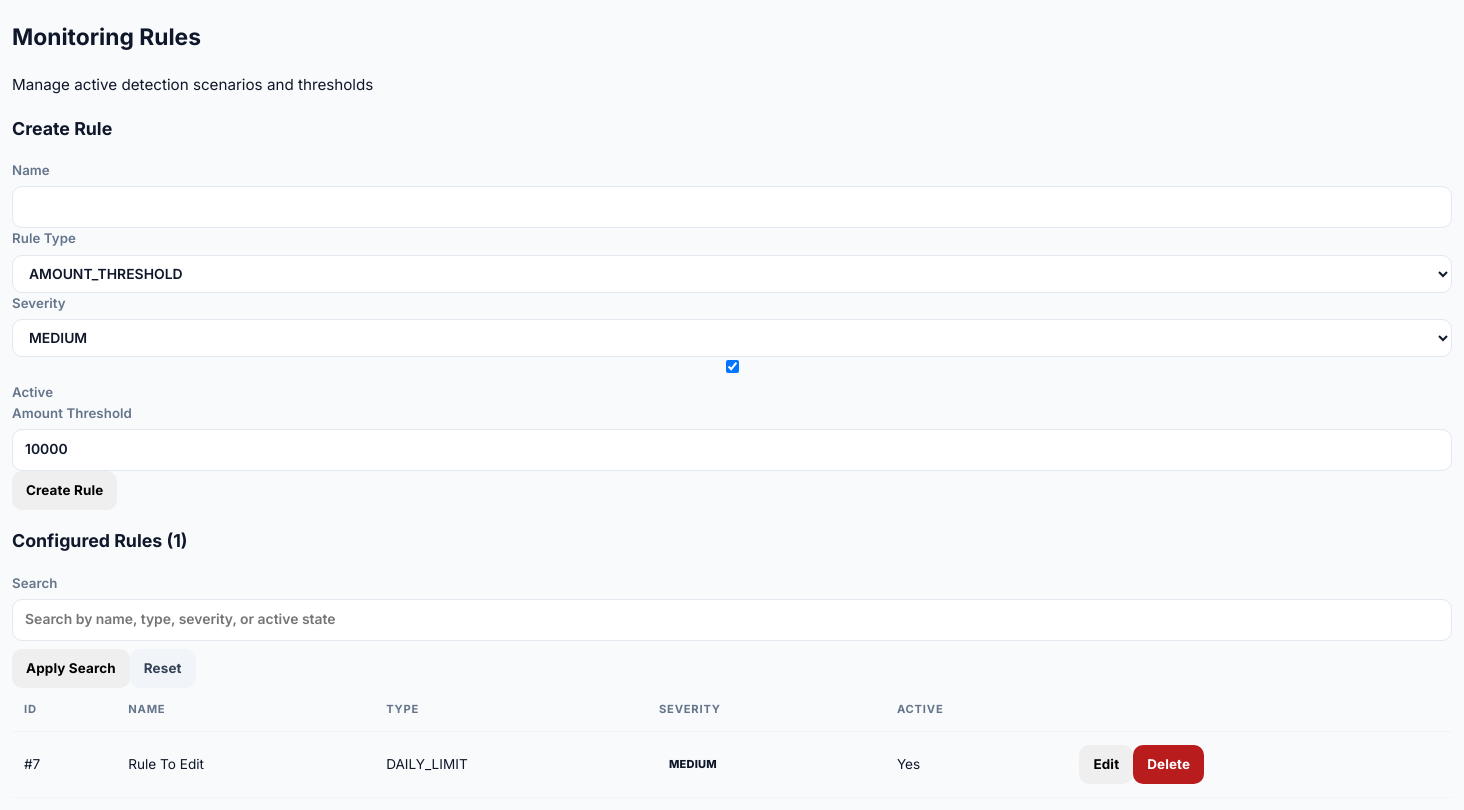
Test: RulesPage › enters edit mode and allows cancel back to create mode
The image size is (1464, 810).
expect the text "Rule To Edit" is shown: met, box [116, 732, 374, 797]
Click the button "Edit" at (1106, 764), box [1080, 745, 1133, 784]
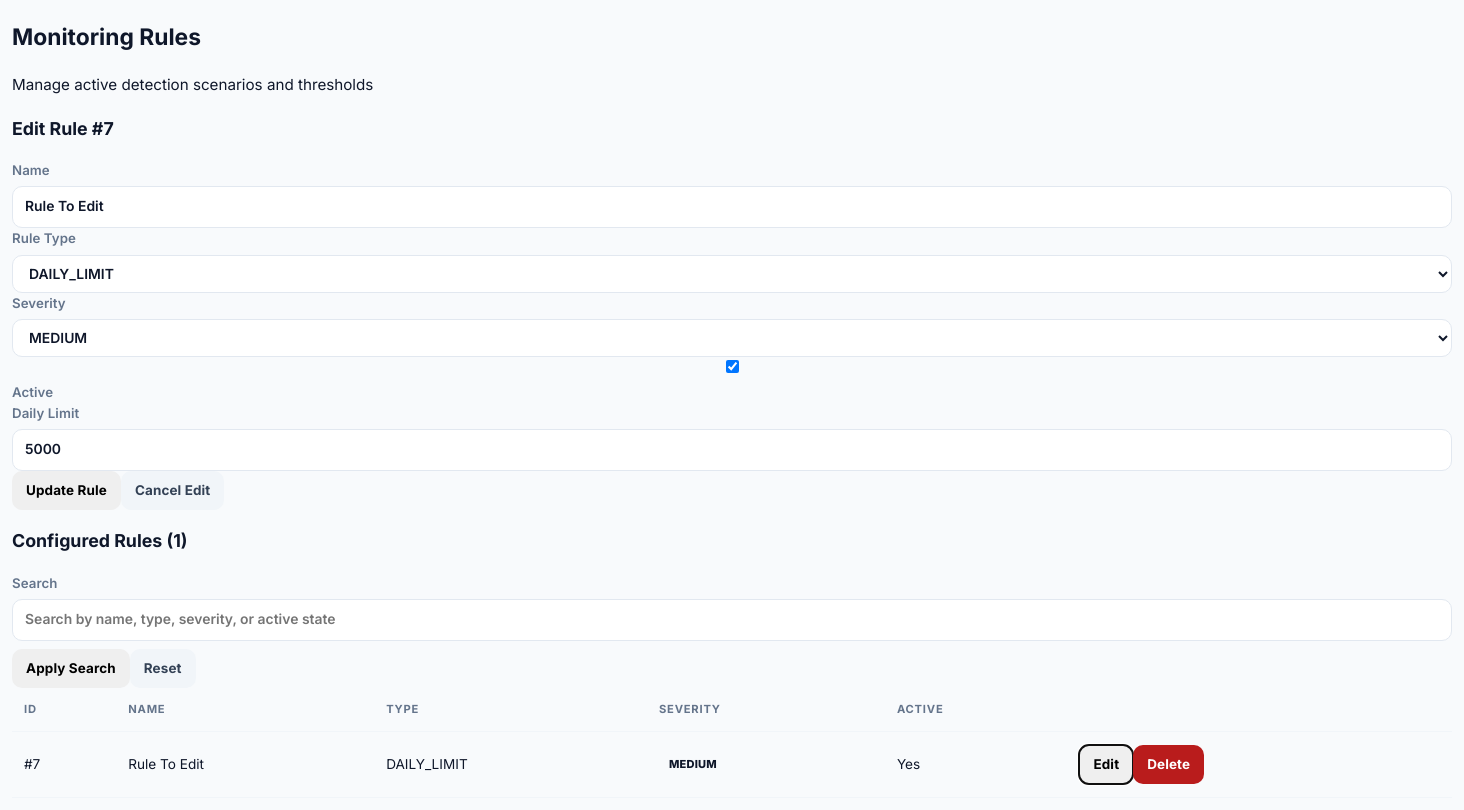
expect the button "Update Rule" is shown: met, box [12, 471, 121, 510]
expect the field labelled "Name" holds "Rule To Edit": met, box [12, 186, 1452, 228]
expect the number field labelled "Daily Limit" holds "5000": met, box [12, 429, 1452, 471]
Click the button "Cancel Edit" at (173, 490), box [121, 471, 224, 510]
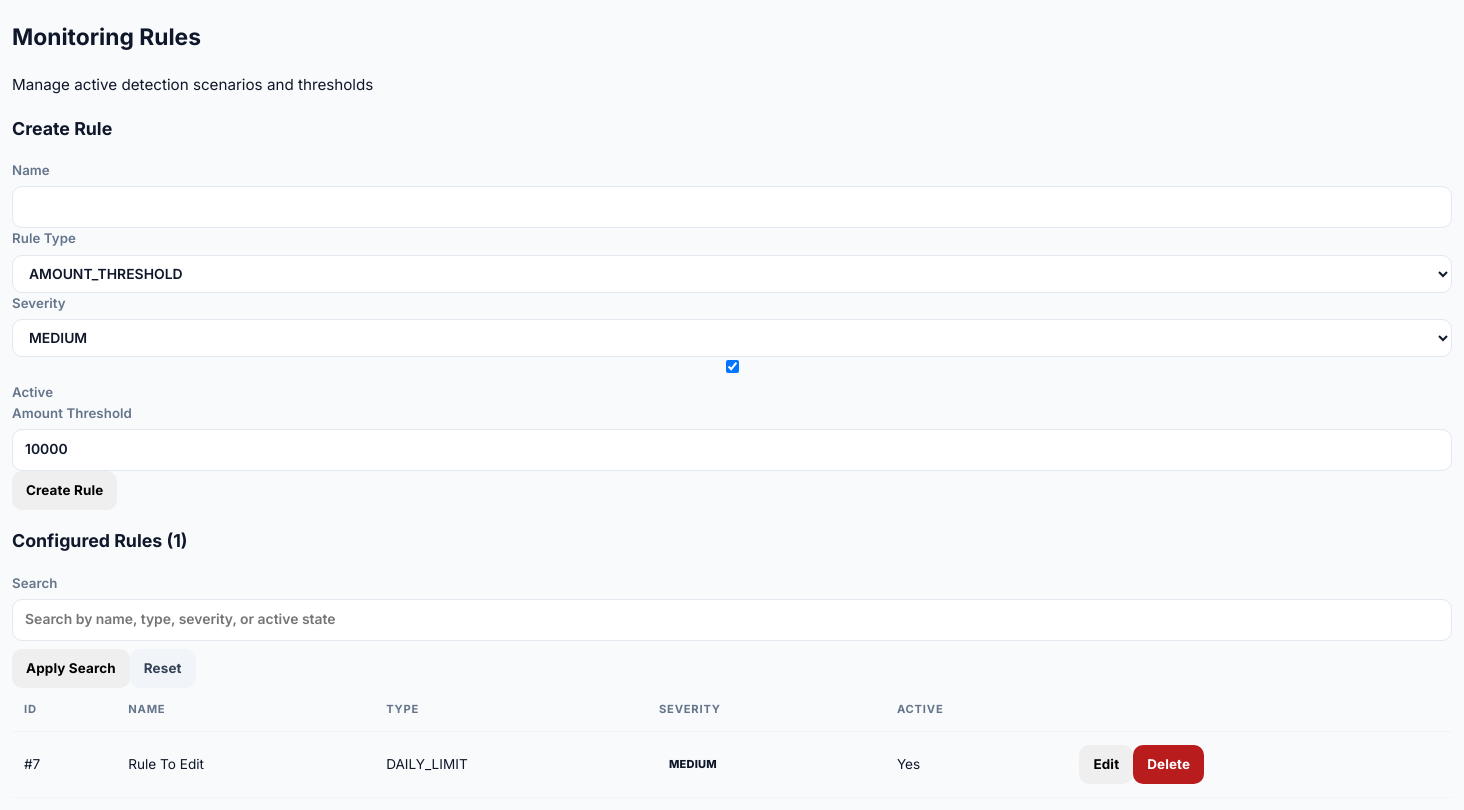
expect the button "Create Rule" is shown: met, box [12, 471, 117, 510]
expect the field labelled "Name" is empty: met, box [12, 186, 1452, 228]
expect the dropdown labelled "Rule Type" shows "AMOUNT_THRESHOLD": met, box [12, 254, 1452, 292]
